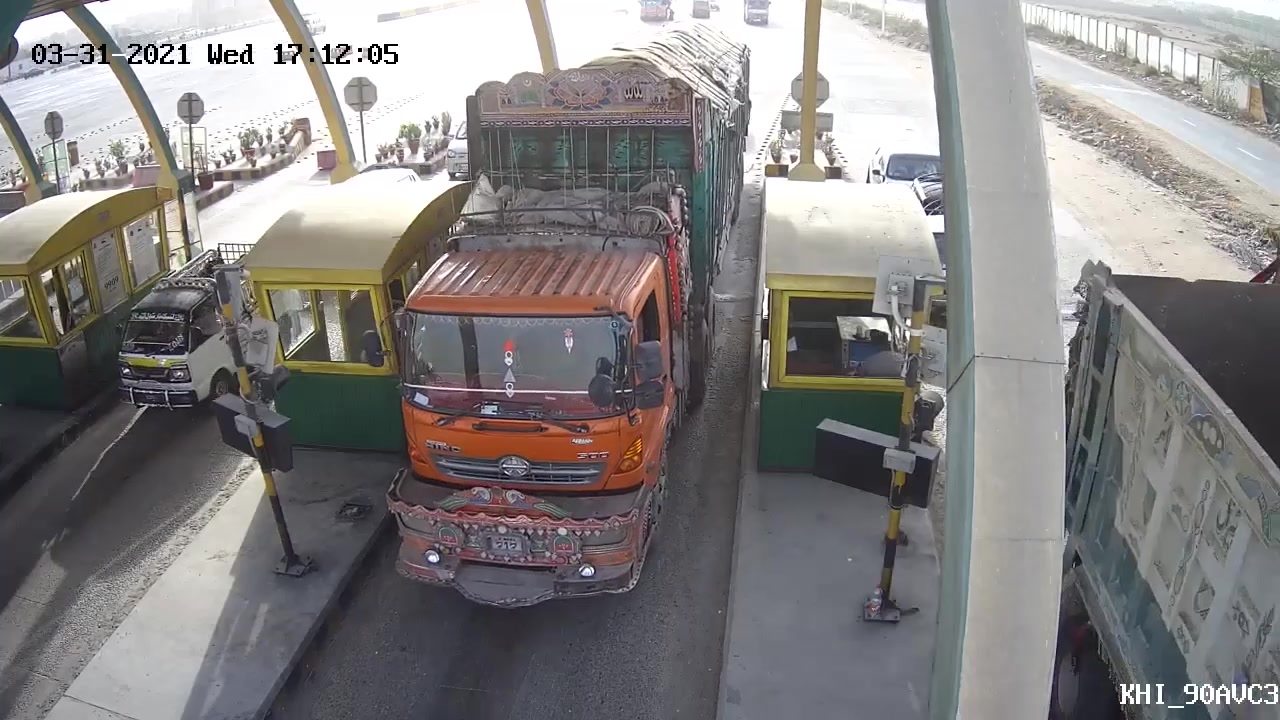F6: (368, 70, 738, 609)
